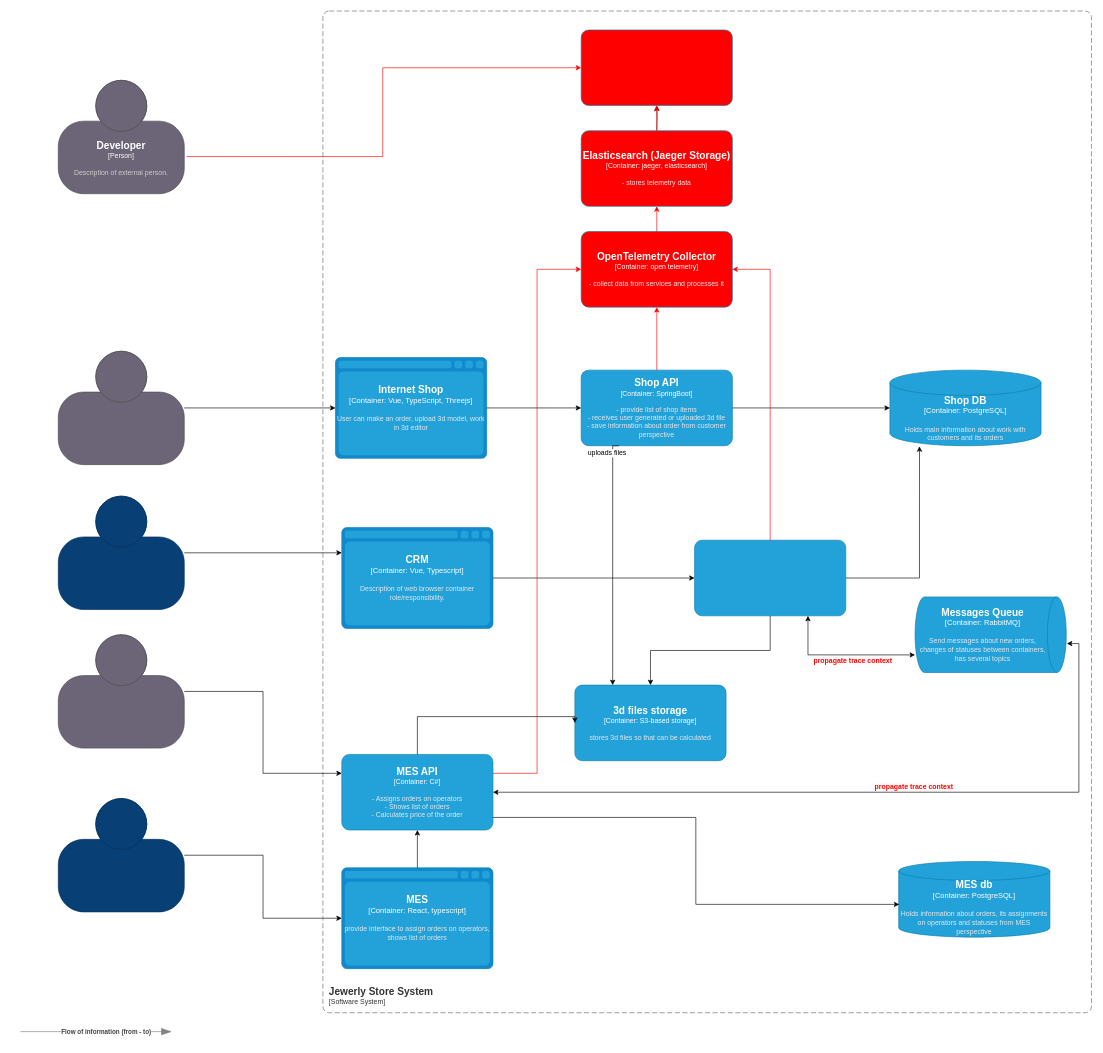
This 1103x1053 diagram has some shape labels left out. The shapes that lost their labels are listed below. From the top down, each one's centre as x and y in pixels, then its label:
At (656,67): "Jaeger Tracing Ui [Container: jaeger] - shows tracing".
At (121,408): "Customer [Person] Description of external person.".
At (121,552): "Seller [Person] Operates with order, confirms manufacturing for the user".
At (770,578): "CRM API [Container: SpringBoot] Description of container role/responsibility.".
At (121,691): "API user [Person] Description of external person.".
At (121,855): "Operator [Person] Takes order in work, manufactures jewerly".
